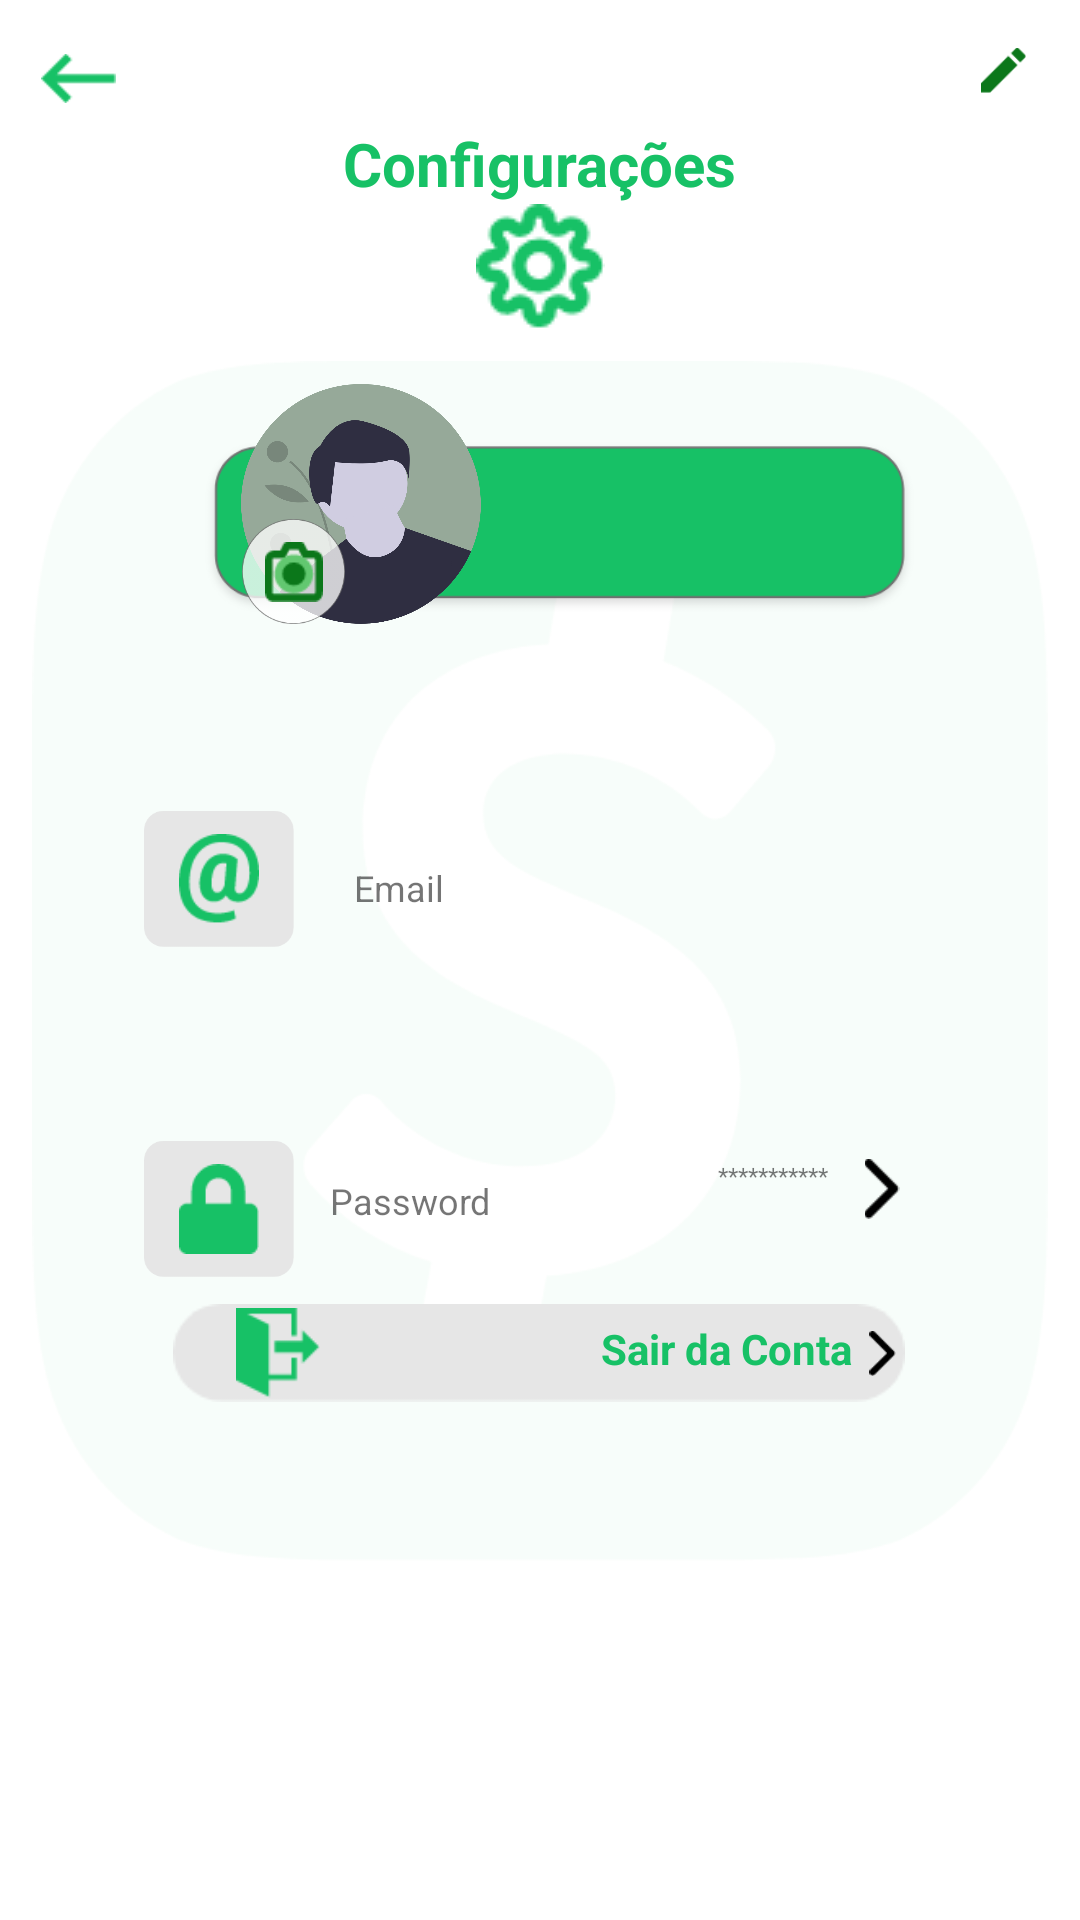

Locate icon controls on the screen. Image size 1080px×1920px, boxes as (x1, y1, x2, y2).
arrow: (41, 54, 116, 103)
materialedit: (981, 48, 1026, 93)
